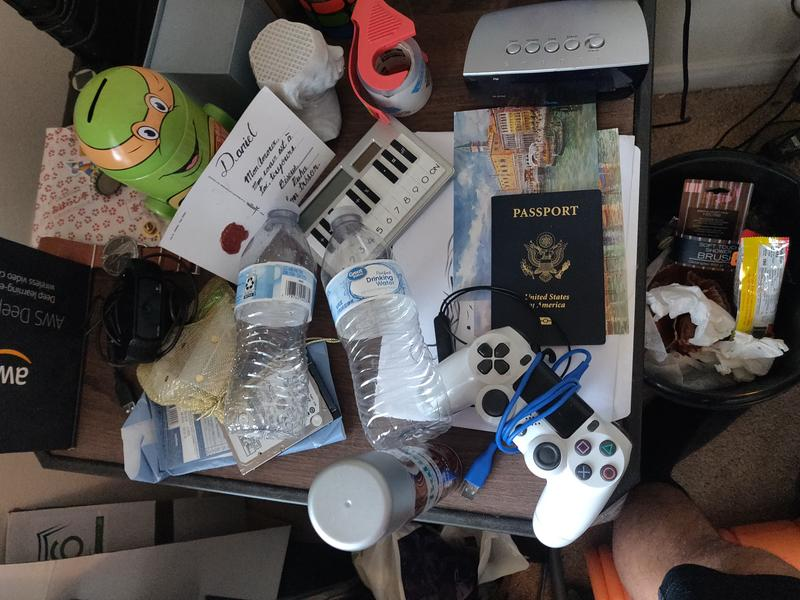bottle: (320, 207, 454, 452), (225, 201, 316, 440)
